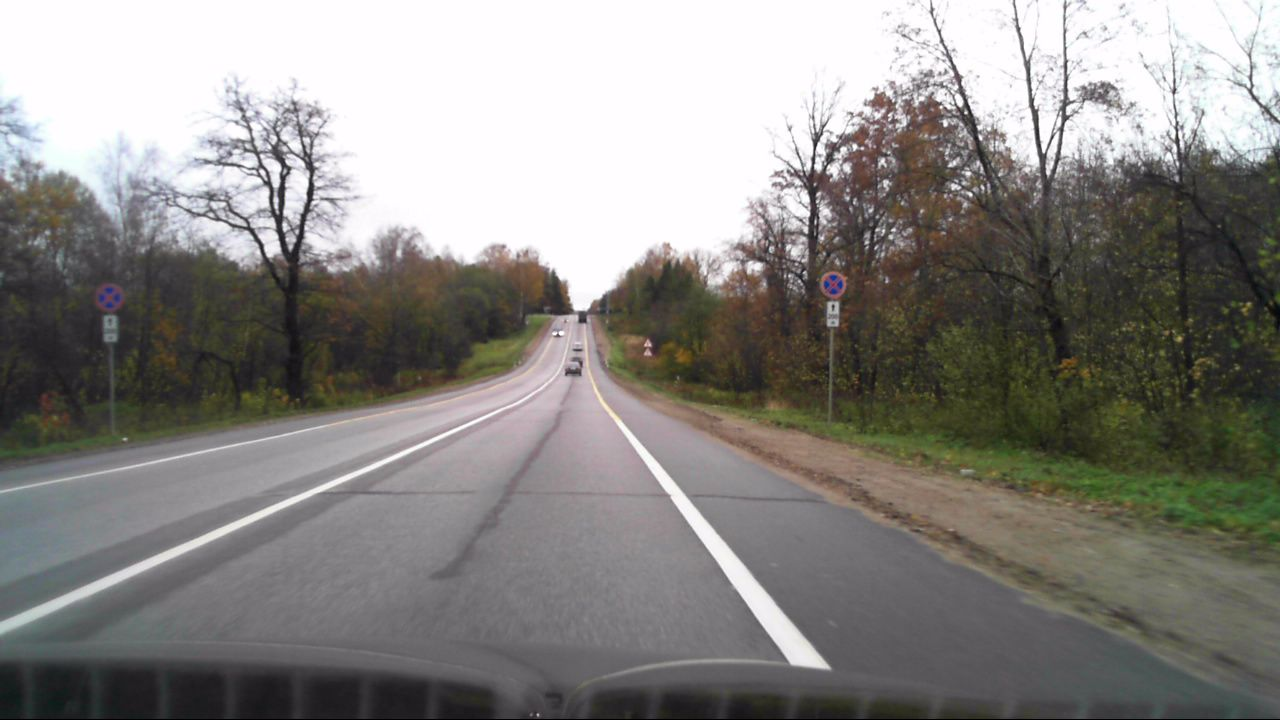No Parking: (95, 283, 123, 312)
